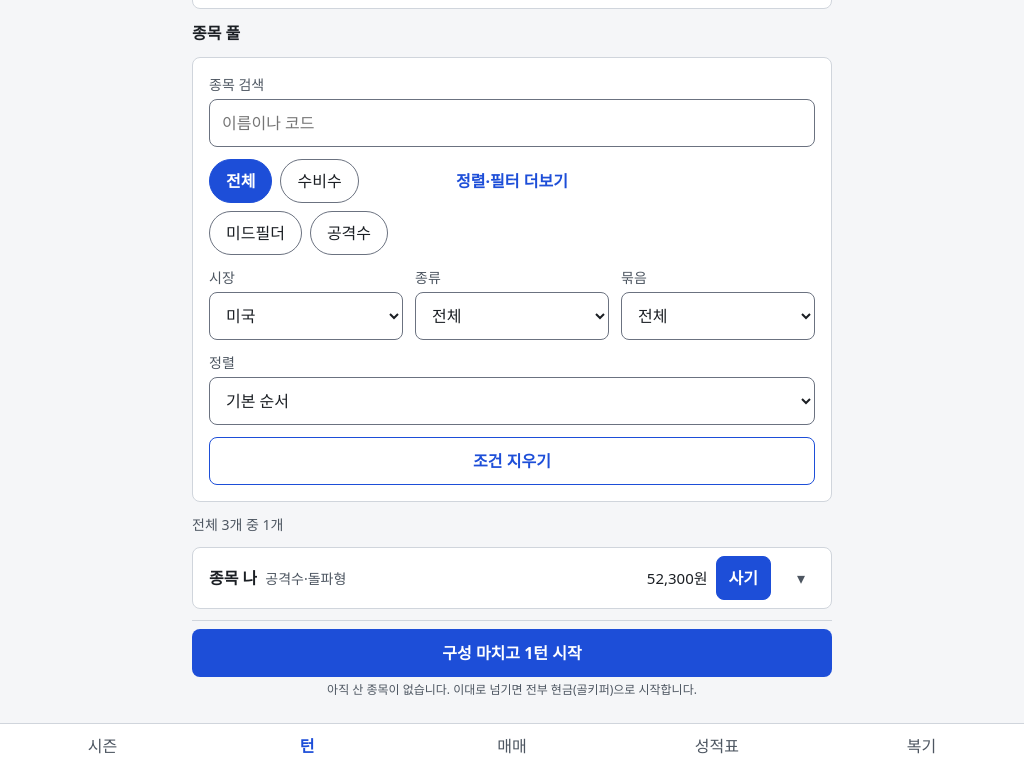
Scenario: pool browser › opens the order sheet for a filtered card
(page scrolled)
Click the button with aria-label "종목 나 사기": (743, 578) [716,556,771,600]
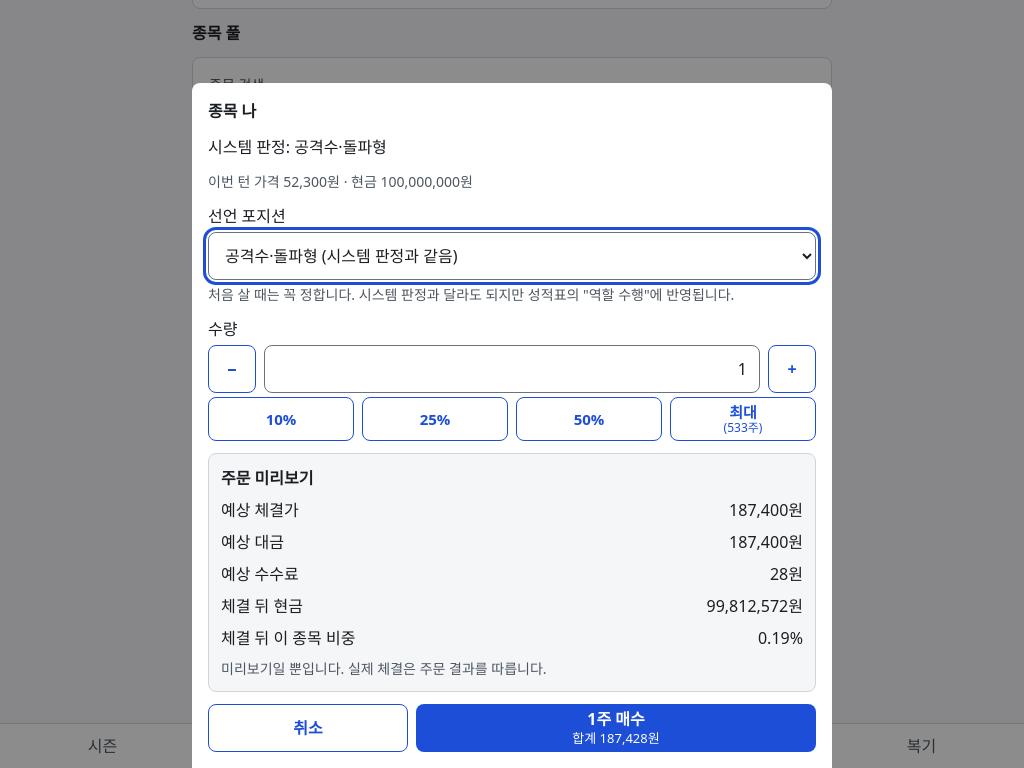
Expected: the dialog is shown, [192,83,832,767]
